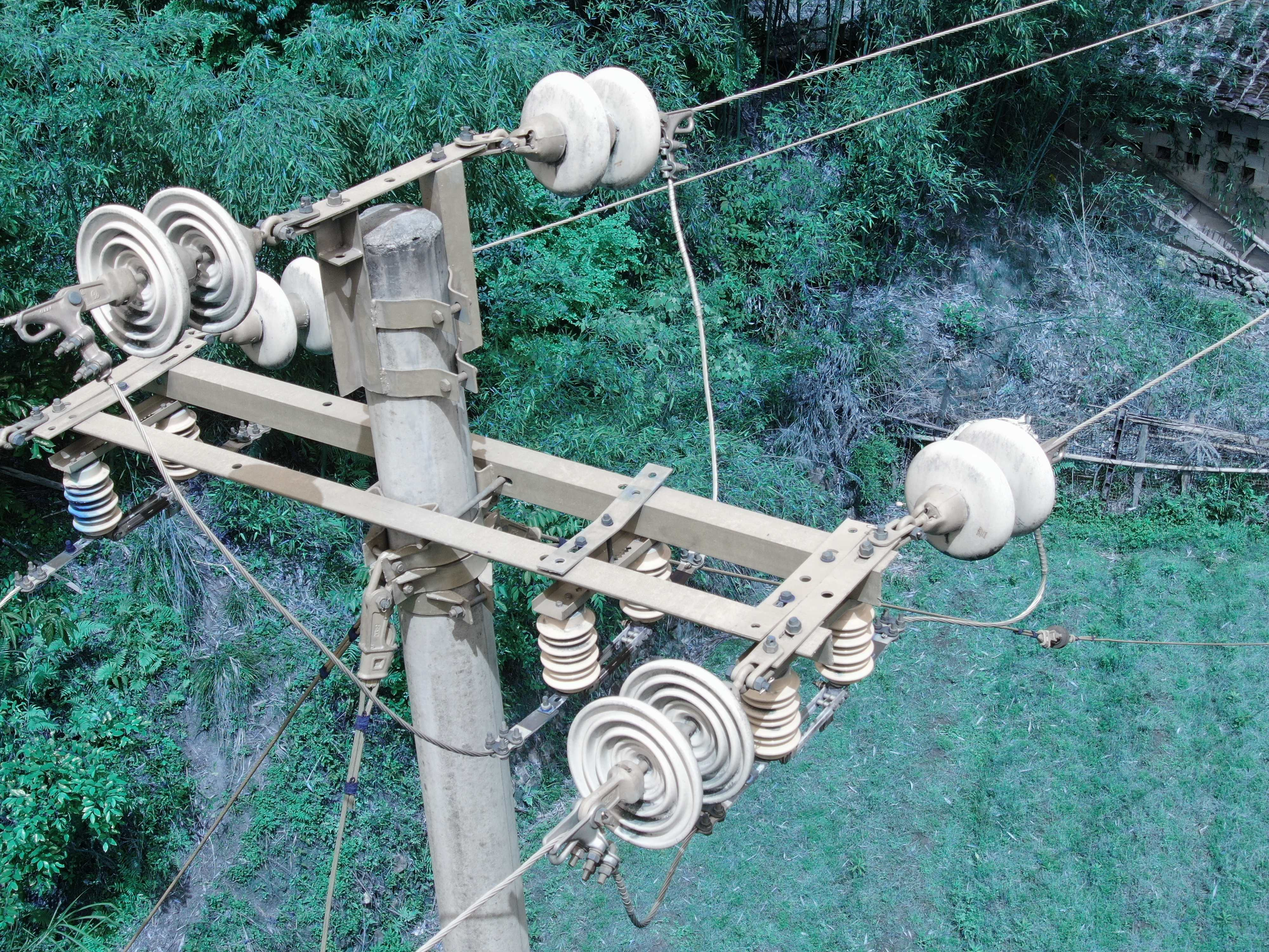severe_soiling_no_discharge_whole: (561, 656, 757, 849), (70, 182, 269, 361), (898, 419, 1065, 561), (516, 62, 666, 198), (228, 256, 330, 369)
